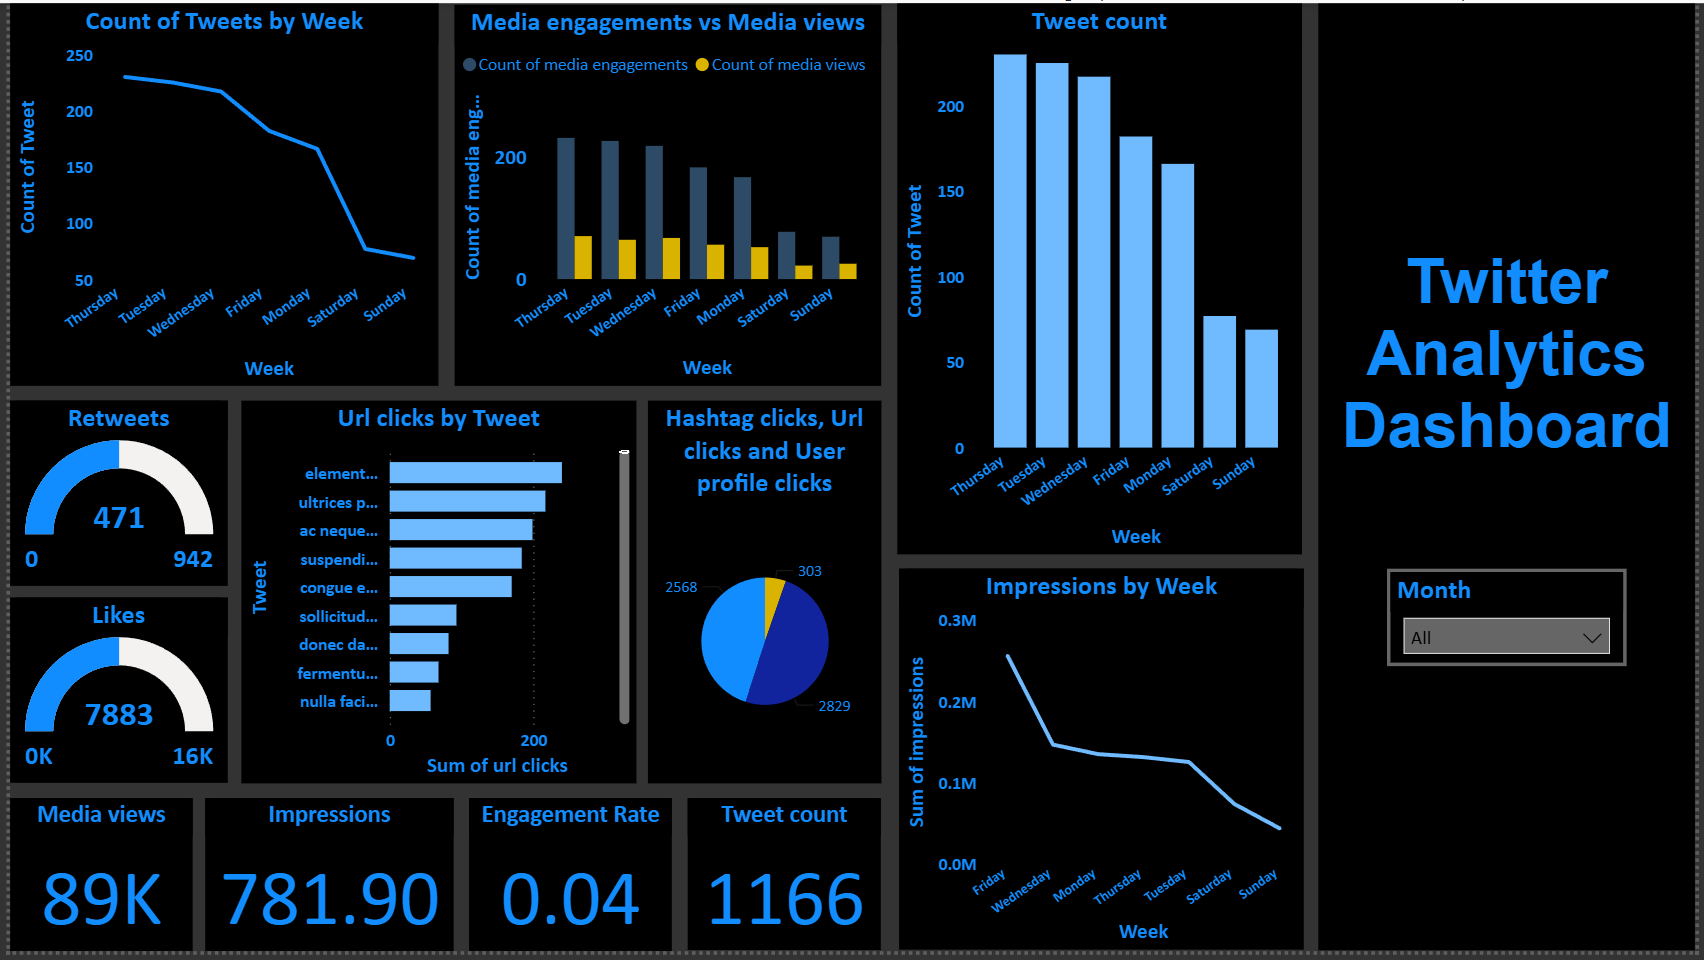

What the dashboard file says about the page in this screenshot:
{"tool":"powerbi","page":{"name":"Dashboard","canvas":[1280,720],"ordinal":0},"visuals":[{"type":"textbox","box":[993.3,0,286.2,719.2],"z":0},{"type":"card","title":"Media views","fields":{"Values":["Sum(SocialMedia (1).media views)"]},"box":[0,604.3,138.6,115.7],"z":1000},{"type":"card","title":"Impressions","fields":{"Values":["Avg(SocialMedia (1).impressions)"]},"box":[148.6,604.3,188.6,115.7],"z":2000},{"type":"card","title":"Engagement Rate","fields":{"Values":["Avg(SocialMedia (1).engagement rate)"]},"box":[348.6,604.3,154.3,115.7],"z":3000},{"type":"card","title":"Tweet count","fields":{"Values":["CountNonNull(SocialMedia (1).Tweet)"]},"box":[514.8,604.2,146.9,115.1],"z":4000},{"type":"gauge","title":"Likes","fields":{"Y":["Sum(SocialMedia (1).likes)"]},"box":[0,451.2,165,140.8],"z":5000},{"type":"gauge","title":"Retweets","fields":{"Y":["Sum(SocialMedia (1).retweets)"]},"box":[0,301.3,165,140.8],"z":6000},{"type":"slicer","title":"   Month","fields":{"Values":["SocialMedia (1).Month"]},"box":[1046.3,430,181.7,74.2],"z":7000},{"type":"lineChart","title":"Count of Tweets by Week","fields":{"Category":["SocialMedia (1).Dayweek"],"Y":["CountNonNull(SocialMedia (1).Tweet)"]},"box":[0,0,325.6,290.7],"z":8000},{"type":"lineChart","title":"Impressions by Week","fields":{"Category":["SocialMedia (1).Dayweek"],"Y":["Sum(SocialMedia (1).impressions)"]},"box":[675.3,430,307.4,289.2],"z":9000},{"type":"clusteredBarChart","title":"Url clicks by Tweet","fields":{"Category":["SocialMedia (1).Tweet"],"Y":["Sum(SocialMedia (1).url clicks)"]},"box":[175.6,301.3,299.8,290.7],"z":10000},{"type":"pieChart","title":"Hashtag clicks, Url clicks and User profile clicks","fields":{"Y":["Sum(SocialMedia (1).hashtag clicks)","Sum(SocialMedia (1).url clicks)","Sum(SocialMedia (1).user profile clicks)"]},"box":[484.5,301.3,177.2,290.7],"z":11000},{"type":"clusteredColumnChart","title":"Media engagements vs Media views","fields":{"Category":["SocialMedia (1).Dayweek"],"Y":["CountNonNull(SocialMedia (1).media engagements)","Count(SocialMedia (1).media views)"]},"box":[337.7,1.5,324,289.2],"z":12000},{"type":"clusteredColumnChart","title":"Tweet count","fields":{"Category":["SocialMedia (1).Dayweek"],"Y":["CountNonNull(SocialMedia (1).Tweet)"]},"box":[674.3,0,307.1,418.6],"z":13000}]}

Visuals, with their boxes in screenshot pixels (x1, y1, x2, y2), scaled from the page's 1280x720 canvas onto the 1704x960 screenshot:
textbox: {"x1": 1322, "y1": 0, "x2": 1703, "y2": 959}
"Media views" card: {"x1": 0, "y1": 806, "x2": 185, "y2": 959}
"Impressions" card: {"x1": 198, "y1": 806, "x2": 449, "y2": 959}
"Engagement Rate" card: {"x1": 464, "y1": 806, "x2": 669, "y2": 959}
"Tweet count" card: {"x1": 685, "y1": 806, "x2": 881, "y2": 959}
"Likes" gauge: {"x1": 0, "y1": 602, "x2": 220, "y2": 789}
"Retweets" gauge: {"x1": 0, "y1": 402, "x2": 220, "y2": 589}
"   Month" slicer: {"x1": 1393, "y1": 573, "x2": 1635, "y2": 672}
"Count of Tweets by Week" lineChart: {"x1": 0, "y1": 0, "x2": 433, "y2": 388}
"Impressions by Week" lineChart: {"x1": 899, "y1": 573, "x2": 1308, "y2": 959}
"Url clicks by Tweet" clusteredBarChart: {"x1": 234, "y1": 402, "x2": 633, "y2": 789}
"Hashtag clicks, Url clicks and User profile clicks" pieChart: {"x1": 645, "y1": 402, "x2": 881, "y2": 789}
"Media engagements vs Media views" clusteredColumnChart: {"x1": 450, "y1": 2, "x2": 881, "y2": 388}
"Tweet count" clusteredColumnChart: {"x1": 898, "y1": 0, "x2": 1306, "y2": 558}
